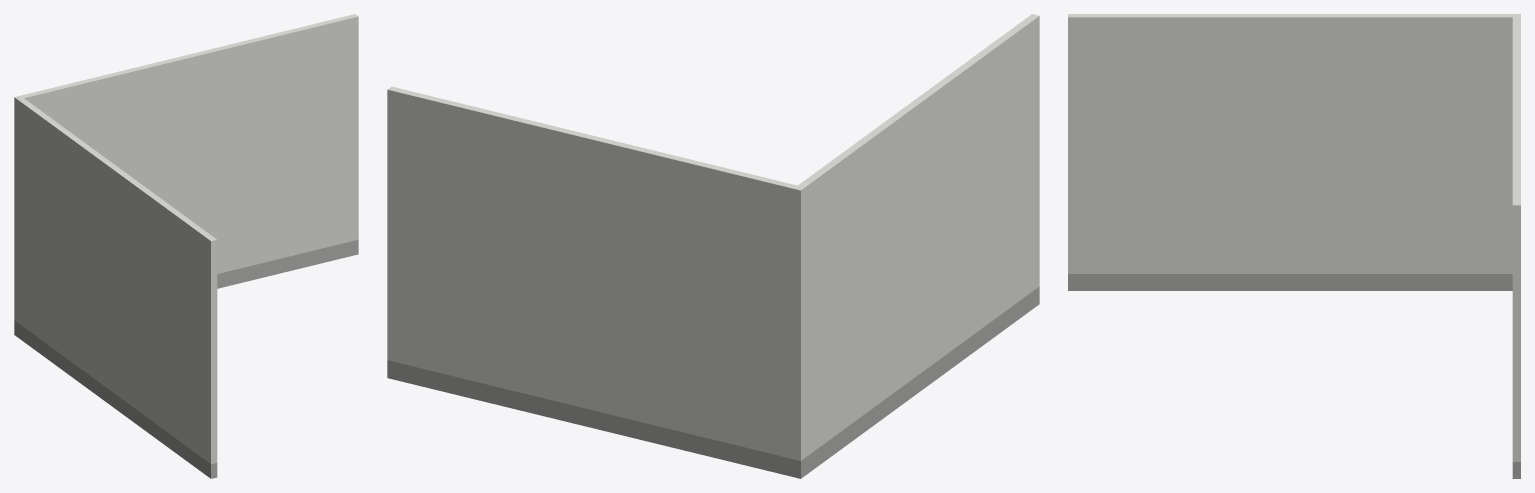
File: EvelMart_Wall_L.fbx
The picture shows the model from 3 angles, left to right: view 1: azimuth 30°, elevation 25°; view 2: azimuth 150°, elevation 25°; view 3: azimuth 270°, elevation 25°; orthographic projection. The views are drawn at different scales.
Visible parts, largest first — view 1: Player Scale.002; view 2: Player Scale.002; view 3: Player Scale.002.
Boxes of the visible parts, bbox=[...] form: Player Scale.002: bbox=[14, 14, 358, 478]; Player Scale.002: bbox=[387, 14, 1039, 478]; Player Scale.002: bbox=[1068, 14, 1520, 478].
Bounding box in the file's own units: 1800 × 1200 × 1800.
